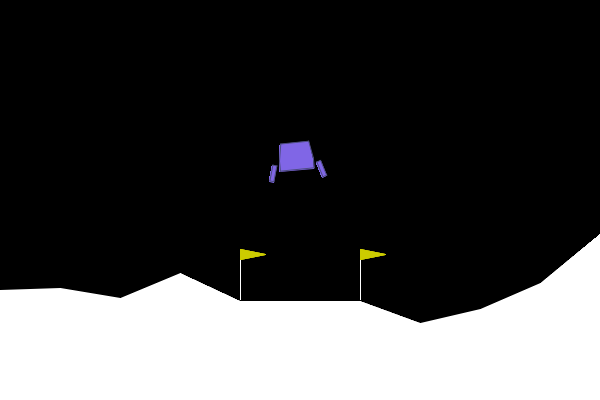lander: (264, 138, 328, 184)
